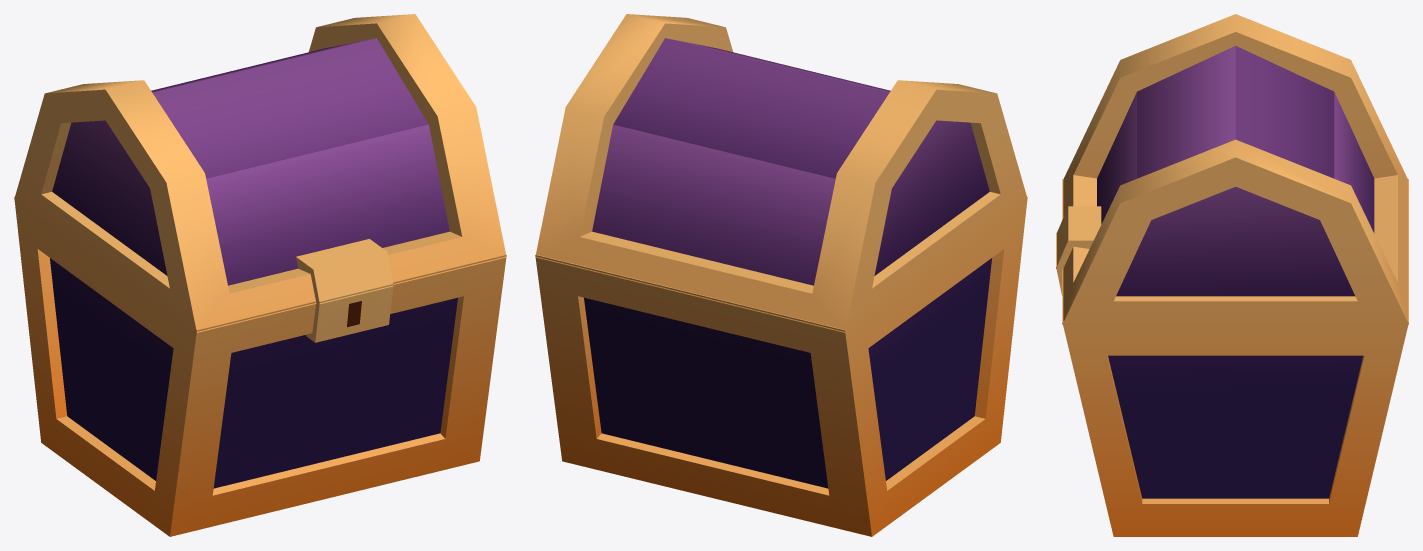
File: Chest 02.fbx
The picture shows the model from 3 angles, left to right: view 1: azimuth 30°, elevation 25°; view 2: azimuth 150°, elevation 25°; view 3: azimuth 270°, elevation 25°; orthographic projection. The views are drawn at different scales.
Visible parts, largest first — view 1: Chest 02 Cover.001, Chest 02.001; view 2: Chest 02 Cover.001, Chest 02.001; view 3: Chest 02 Cover.001, Chest 02.001.
Part boxes in pixels (box(x1,y1,x2,y2)): Chest 02 Cover.001: box(14, 14, 506, 332); Chest 02.001: box(14, 196, 506, 536); Chest 02 Cover.001: box(535, 14, 1027, 332); Chest 02.001: box(535, 196, 1027, 536); Chest 02 Cover.001: box(1056, 14, 1408, 324); Chest 02.001: box(1056, 179, 1408, 536).
Bounding box in the file's own units: 78.26 × 96.6 × 81.41.
